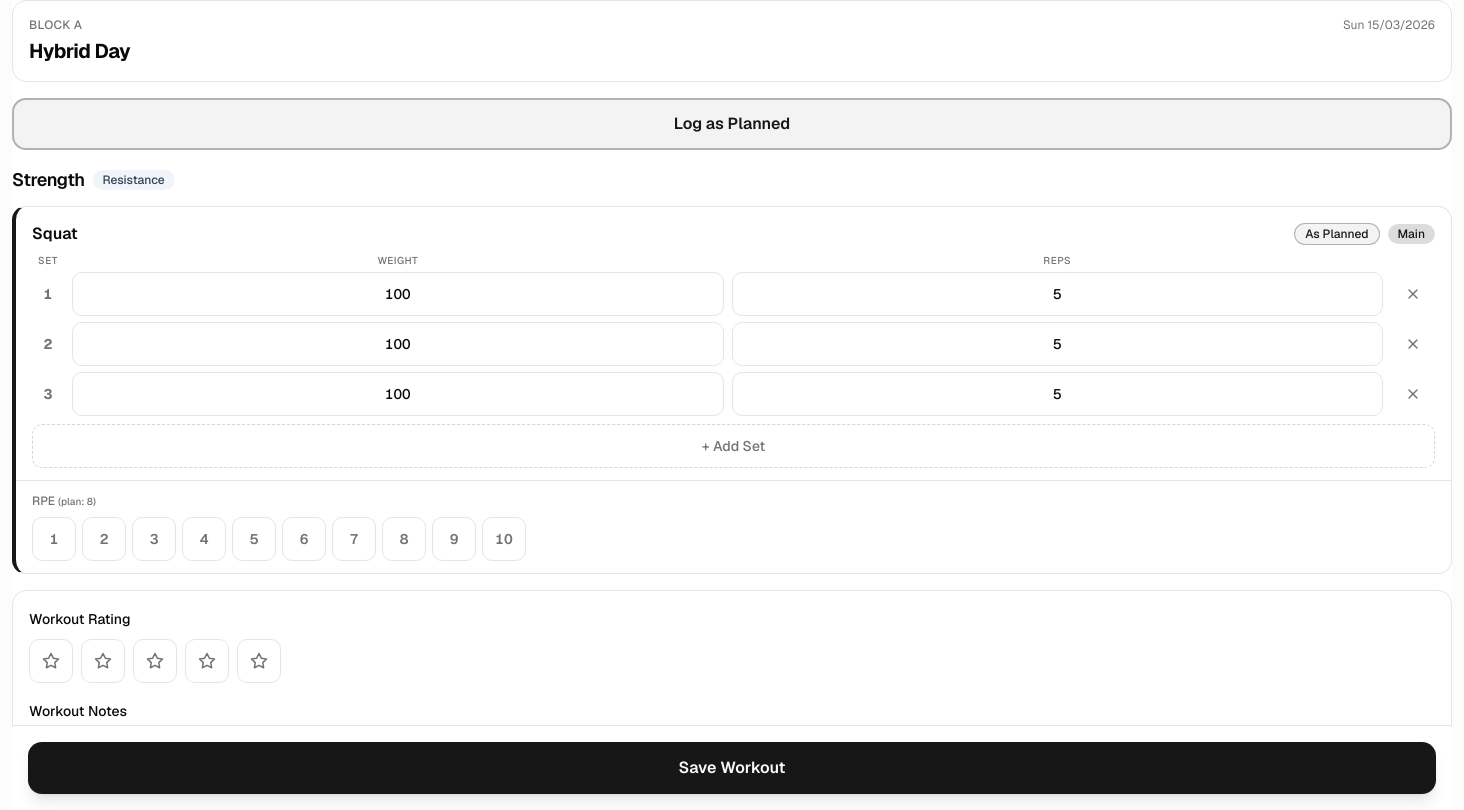
it: Per-section "As Planned" — mixed form resistance › AC24: fills resistance exercise sets with planned values
// Modify a set
Clear the field with test id "weight-input-0-0-0" at (398, 294), box [72,272,724,316]
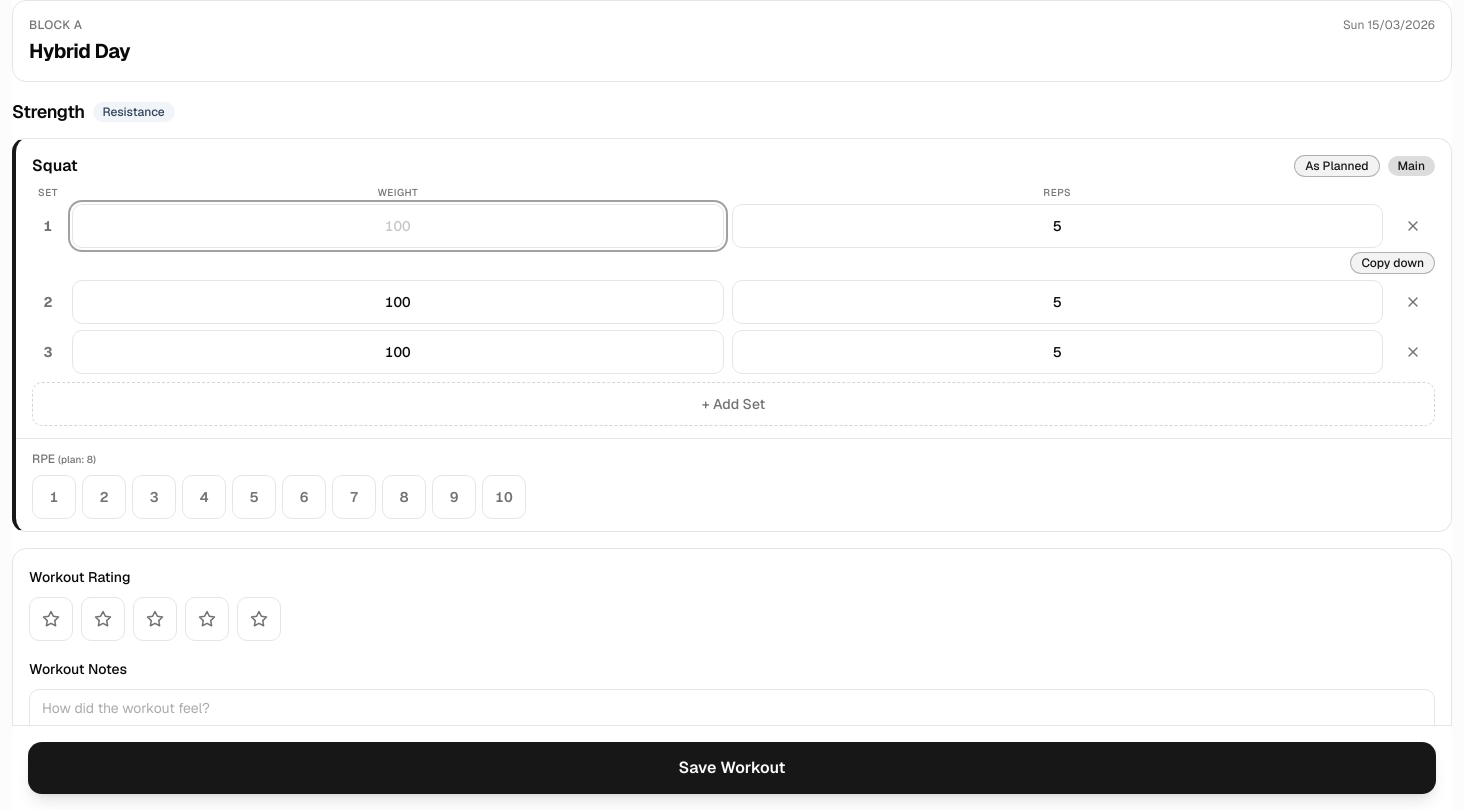
Type "120" into the field with test id "weight-input-0-0-0" at (398, 226), box [72,204,724,248]
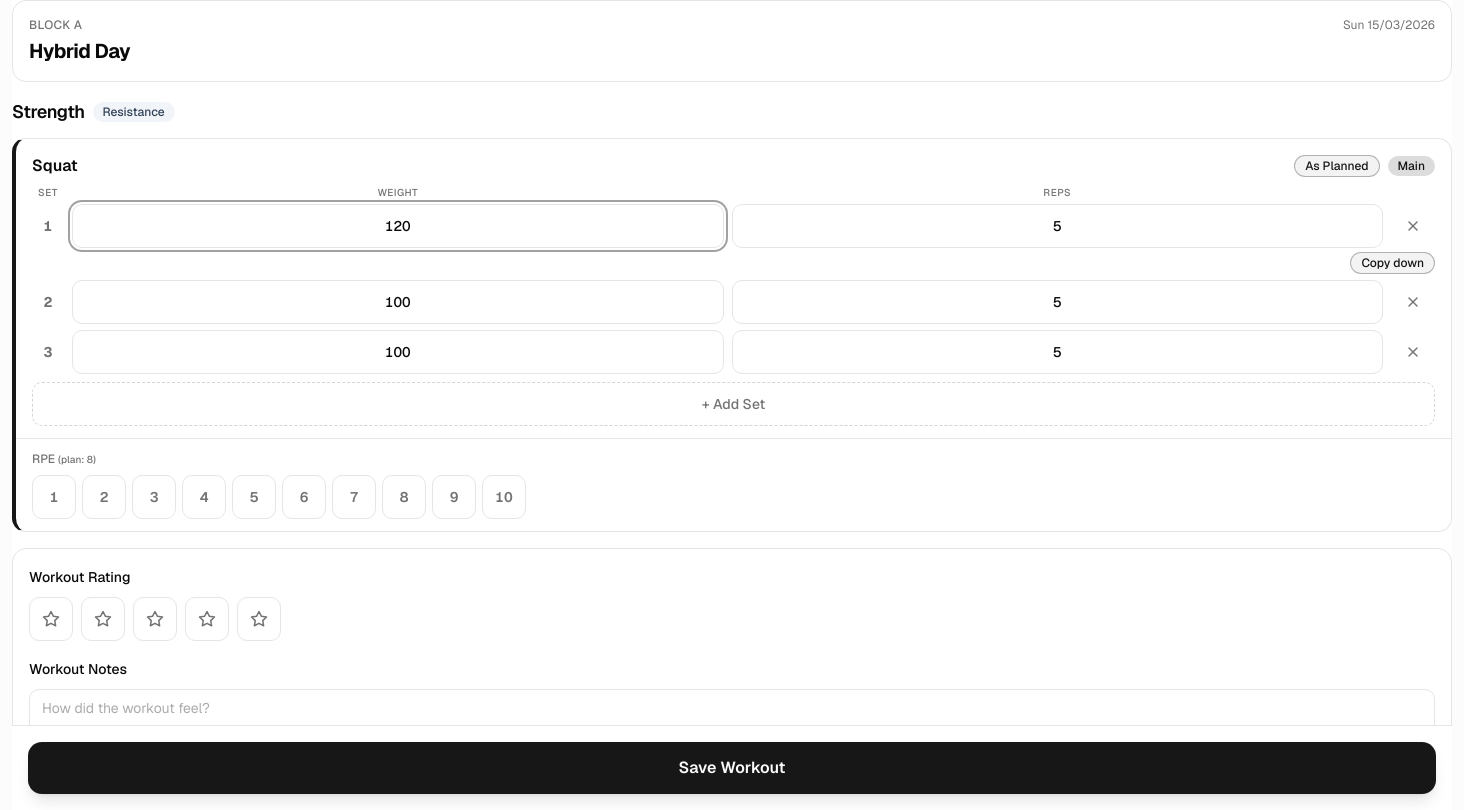
// Tap "As Planned"
Click the button with test id "as-planned-resistance-0-0" at (1337, 166), box [1294,155,1380,177]
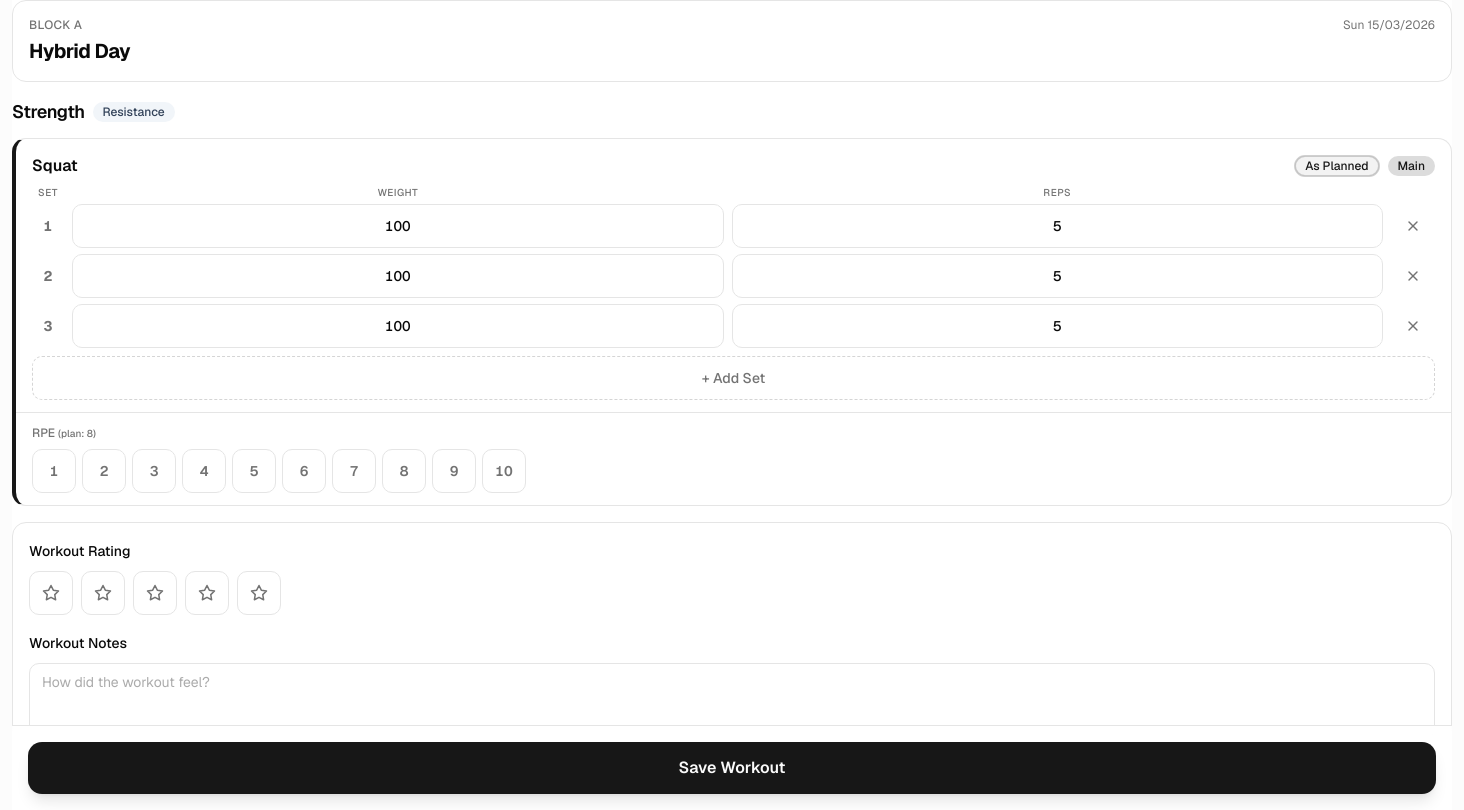
Check: the field with test id "weight-input-0-0-0" holds "100", box [72,204,724,248]
